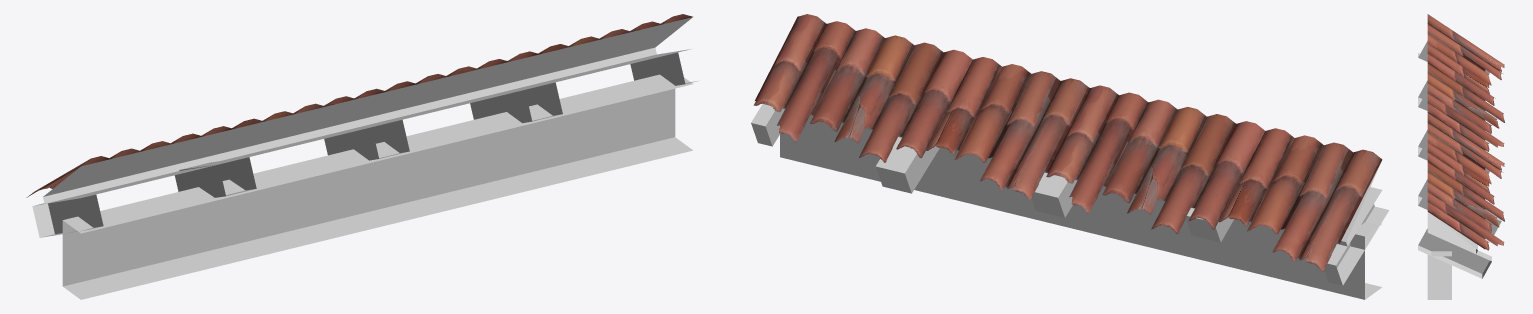
The model's file is WallKit_Eaves_LOD0.fbx.
3 views of the same model, side by side, from view 1: azimuth 30°, elevation 25°; view 2: azimuth 150°, elevation 25°; view 3: azimuth 270°, elevation 25° (orthographic). The views are drawn at different scales.
Visible parts, largest first — view 1: WallKit_Eaves_LOD0; view 2: WallKit_Eaves_LOD0; view 3: WallKit_Eaves_LOD0.
Part boxes in pixels (box(x1,y1,x2,y2)): WallKit_Eaves_LOD0: box(26, 14, 699, 299); WallKit_Eaves_LOD0: box(751, 14, 1389, 299); WallKit_Eaves_LOD0: box(1418, 14, 1504, 299).
Size of the model in its own units: 401 by 86.81 by 86.33.
